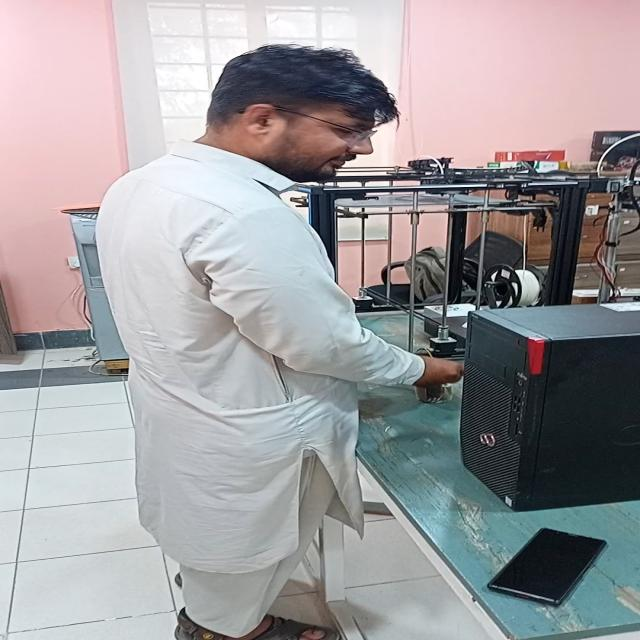dress: (94, 137, 428, 640)
